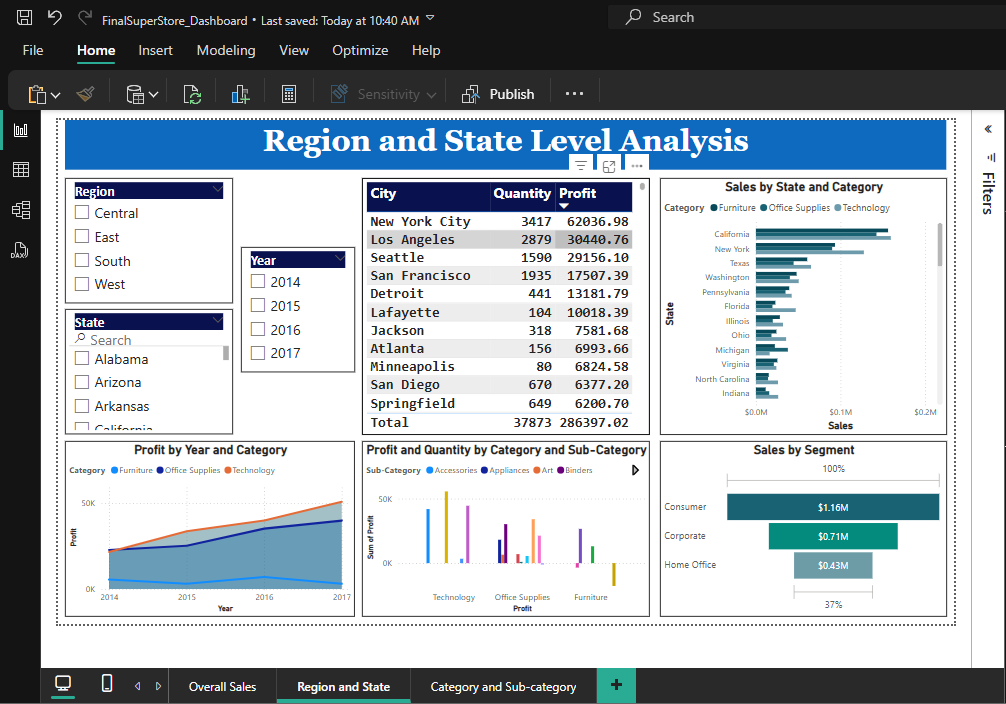

Layout of this report page (visuals, bound fields, positions):
{"tool":"powerbi","page":{"name":"Region and State","canvas":[1280,720],"ordinal":1},"visuals":[{"type":"textbox","box":[10.3,0,1259,70.5],"z":0},{"type":"slicer","fields":{"Values":["Orders.Region"]},"box":[10.3,82.3,239.5,179.3],"z":1000},{"type":"slicer","fields":{"Values":["Orders.State"]},"box":[10.3,270.4,239.5,179.3],"z":2000},{"type":"slicer","fields":{"Values":["Orders.Year"]},"box":[261.6,180.7,163.1,179.3],"z":3000},{"type":"tableEx","fields":{"Values":["Orders.City","Sum(Orders.Quantity)","Sum(Orders.Profit)"]},"box":[434.9,82.3,411.4,367.3],"z":4000},{"type":"clusteredBarChart","title":"Sales by State and Category","fields":{"Category":["Orders.State"],"Series":["Orders.Category"],"Y":["Sum(Orders.Sales)"]},"box":[859.6,82.3,410,367.3],"z":5000},{"type":"areaChart","title":"Profit by Year and Category","fields":{"Series":["Orders.Category"],"Y":["Sum(Orders.Profit)"],"Category":["Orders.Year"]},"box":[10.3,458.4,414.4,251.3],"z":6000},{"type":"lineClusteredColumnComboChart","title":"Profit and Quantity by Category and Sub-Category","fields":{"Category":["Orders.Category"],"Series":["Orders.Sub-Category"],"Y":["Sum(Orders.Profit)"]},"box":[434.9,458.4,411.4,251.3],"z":7000},{"type":"funnel","title":"Sales by Segment","fields":{"Category":["Orders.Segment"],"Y":["Sum(Orders.Sales)"]},"box":[860,458,410,251],"z":8000}]}

Visuals, with their boxes on the page's 1280x720 design canvas (x1, y1, x2, y2). These are canvas units, not pixel positions in the 1006x704 screenshot, which may show the page scaled, cropped or inside an application window:
textbox: Rect(10, 0, 1269, 70)
slicer - Orders.Region: Rect(10, 82, 250, 262)
slicer - Orders.State: Rect(10, 270, 250, 450)
slicer - Orders.Year: Rect(262, 181, 425, 360)
tableEx - Orders.City x Sum(Orders.Quantity): Rect(435, 82, 846, 450)
"Sales by State and Category" clusteredBarChart: Rect(860, 82, 1270, 450)
"Profit by Year and Category" areaChart: Rect(10, 458, 425, 710)
"Profit and Quantity by Category and Sub-Category" lineClusteredColumnComboChart: Rect(435, 458, 846, 710)
"Sales by Segment" funnel: Rect(860, 458, 1270, 709)
